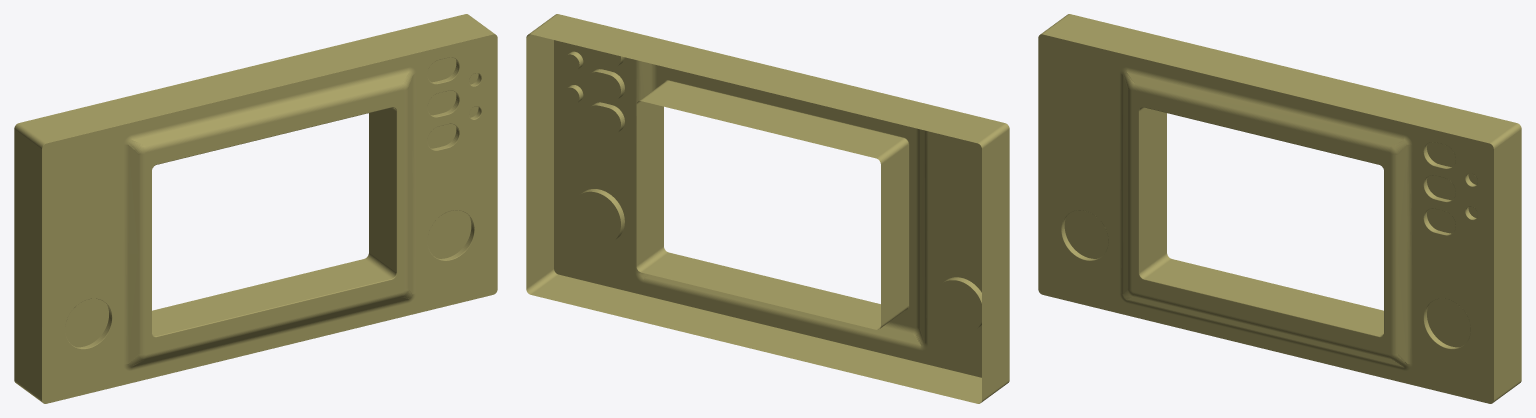
File: SM_Faceplate.fbx
The picture shows the model from 3 angles, left to right: view 1: azimuth 30°, elevation 25°; view 2: azimuth 150°, elevation 25°; view 3: azimuth 330°, elevation 25°; orthographic projection.
Parts seen in each view (by area): view 1: SM_Faceplate; view 2: SM_Faceplate; view 3: SM_Faceplate.
Boxes of the visible parts, left/top/right/bottom form: SM_Faceplate: left=14, top=14, right=497, bottom=403; SM_Faceplate: left=526, top=14, right=1009, bottom=403; SM_Faceplate: left=1038, top=14, right=1521, bottom=403.
Size of the model in its own units: 27.06 by 14.78 by 3.32.
